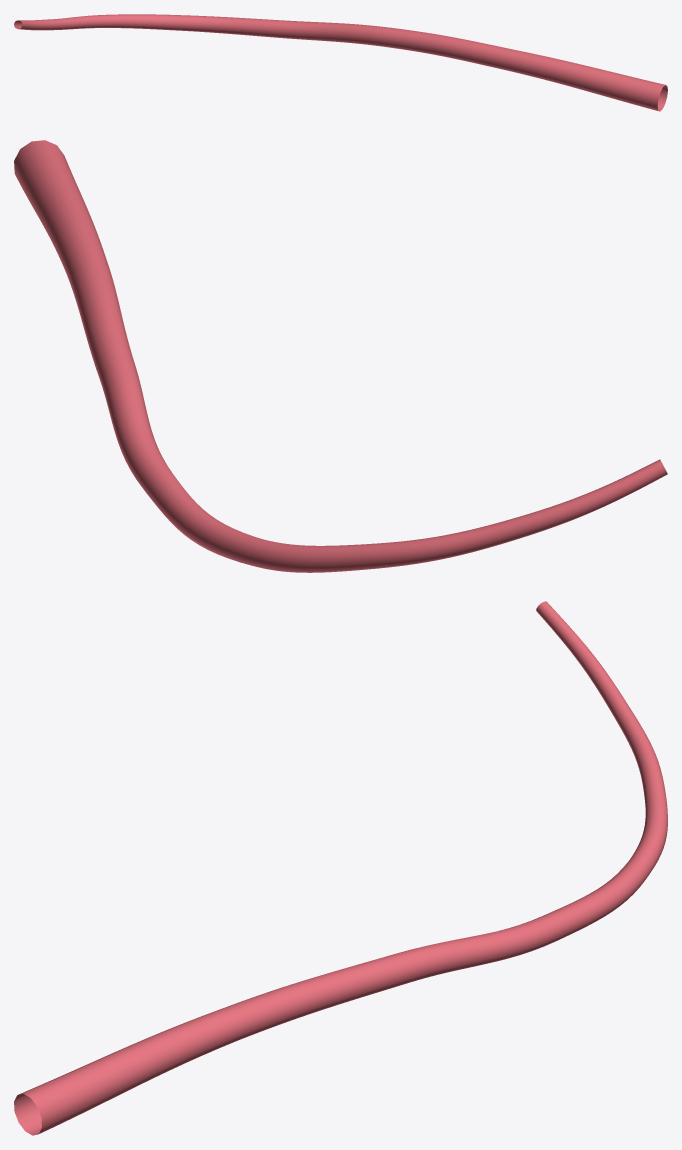
The picture shows the model from 3 angles, top to bottom: view 1: azimuth 30°, elevation 25°; view 2: azimuth 150°, elevation 25°; view 3: azimuth 270°, elevation 25°; orthographic projection. The views are drawn at different scales.
Visible parts, largest first — view 1: ZA_0f97111d6bdf308a; view 2: ZA_0f97111d6bdf308a; view 3: ZA_0f97111d6bdf308a.
Boxes of the visible parts, <box> form: ZA_0f97111d6bdf308a: <box>14,14,667,111</box>; ZA_0f97111d6bdf308a: <box>14,140,667,572</box>; ZA_0f97111d6bdf308a: <box>14,601,667,1135</box>.
Bounding box in the file's own units: 0.0517 × 0.00913 × 0.0362.
